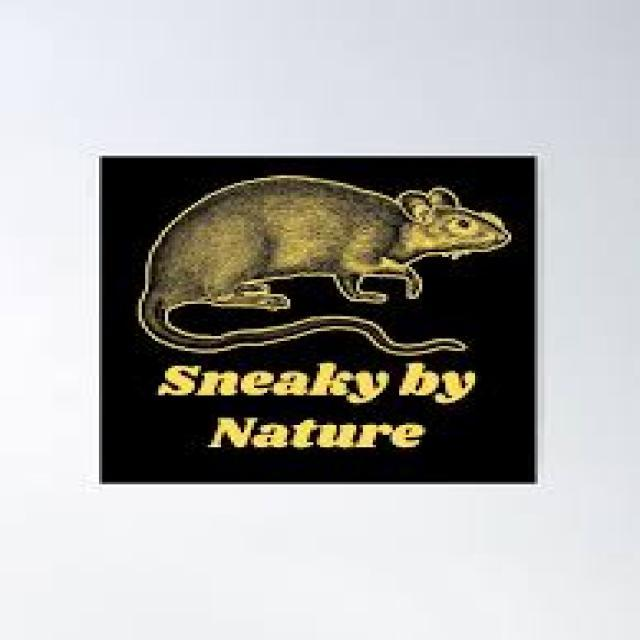Rat: (116, 146, 527, 361)
